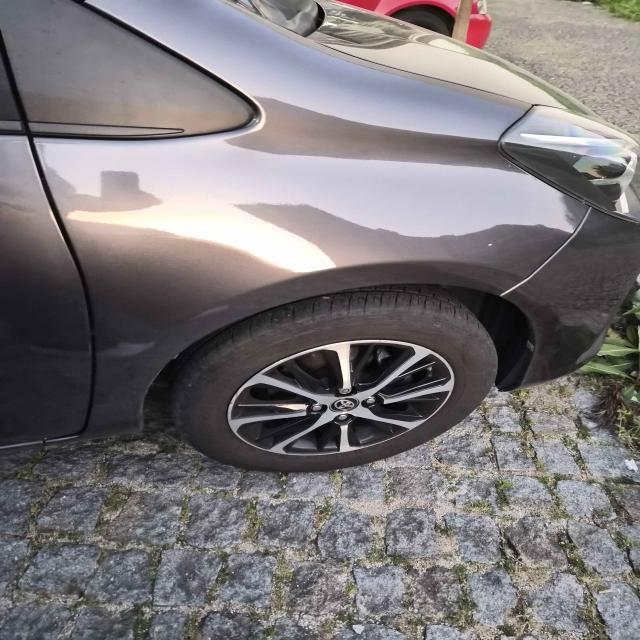jante: (226, 340, 454, 454)
parafuso: (304, 402, 326, 416), (334, 412, 353, 426), (335, 386, 355, 398), (361, 395, 380, 407)
roda: (169, 284, 499, 473)
